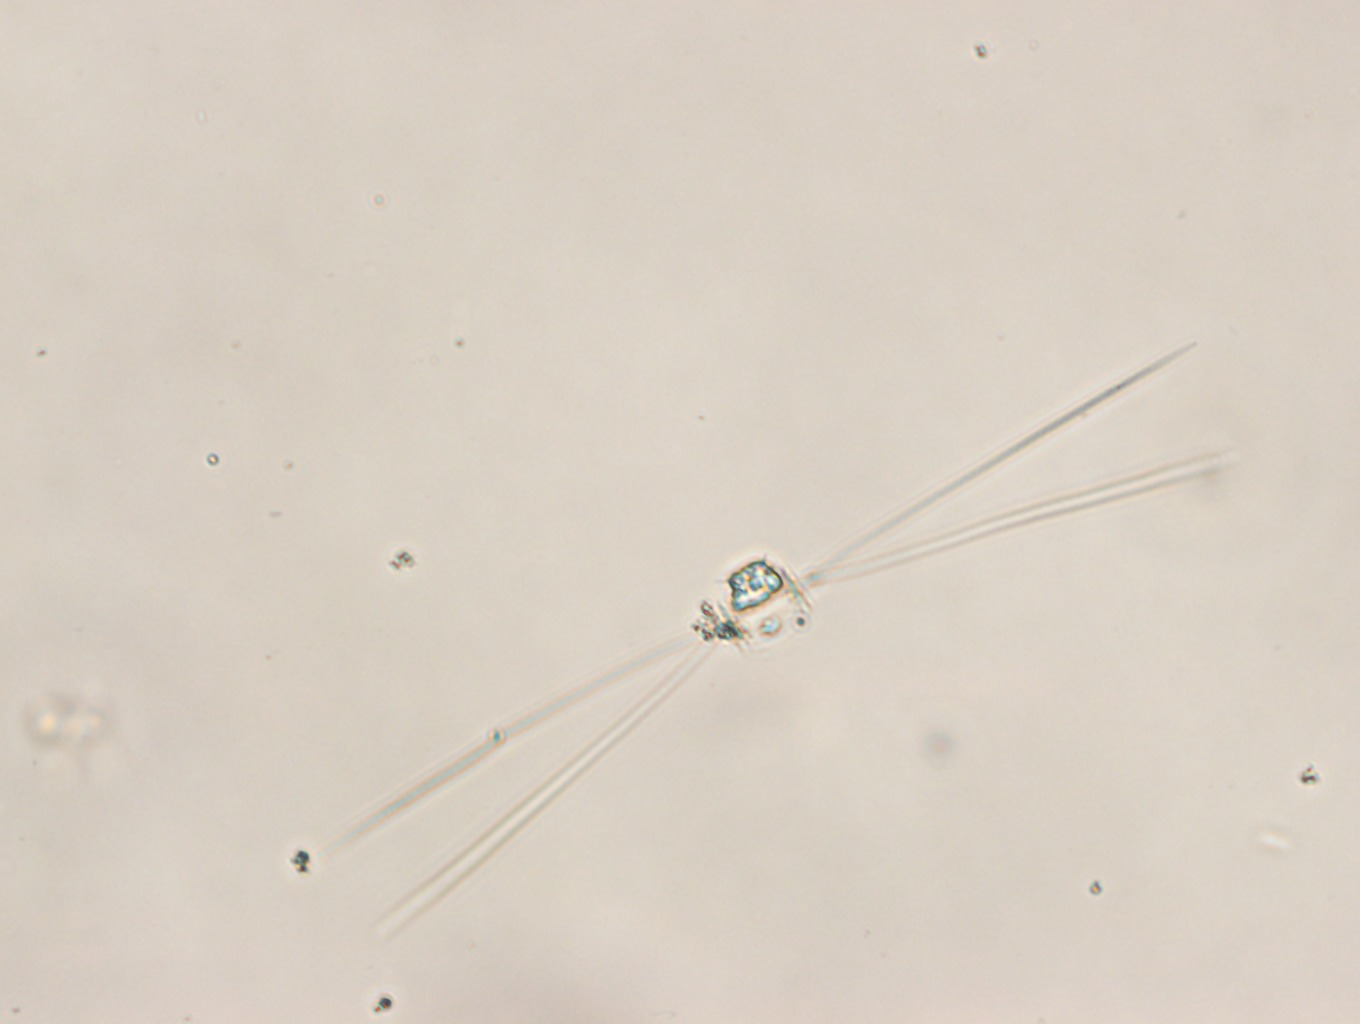chaetoceros: (344, 342, 1239, 945)
